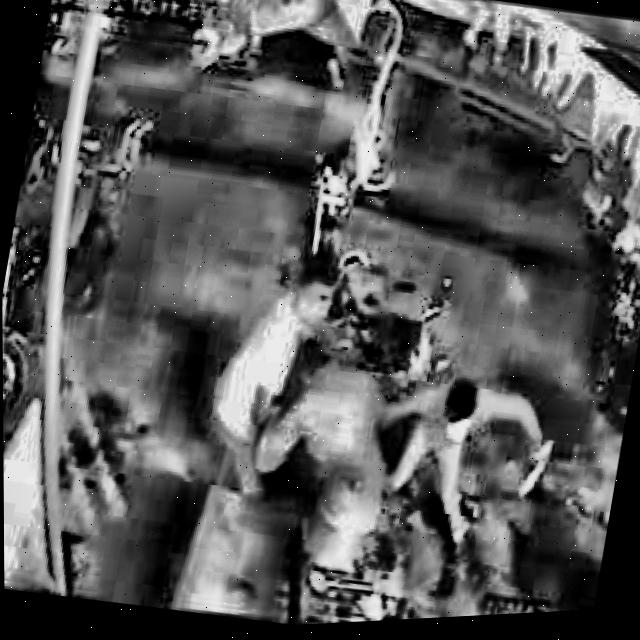robbery: (211, 252, 556, 574)
